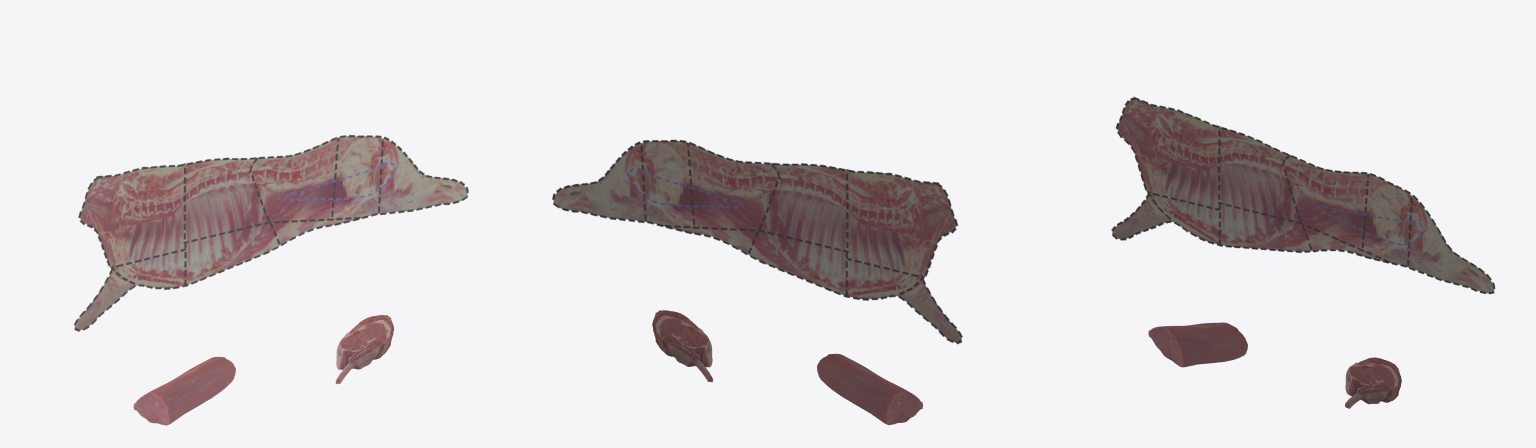
The model's file is Game_Beef.glb.
The picture shows the model from 3 angles, left to right: view 1: azimuth 30°, elevation 25°; view 2: azimuth 150°, elevation 25°; view 3: azimuth 330°, elevation 25°; orthographic projection. The views are drawn at different scales.
Parts seen in each view (by area): view 1: Beef, Tenderloin, RibChop; view 2: Beef, Tenderloin, RibChop; view 3: Beef, Tenderloin, RibChop.
Boxes of the visible parts, box(x1,y1,x2,y2) form: Beef: box(74, 135, 468, 331); Tenderloin: box(133, 356, 235, 425); RibChop: box(335, 315, 394, 384); Beef: box(552, 139, 962, 344); Tenderloin: box(817, 353, 922, 425); RibChop: box(652, 310, 713, 382); Beef: box(1111, 96, 1495, 294); Tenderloin: box(1148, 322, 1247, 367); RibChop: box(1345, 357, 1401, 408).
Bounding box in the file's own units: 3.85 × 2.52 × 0.1496.
Materials: 3 (3 with a texture image).
